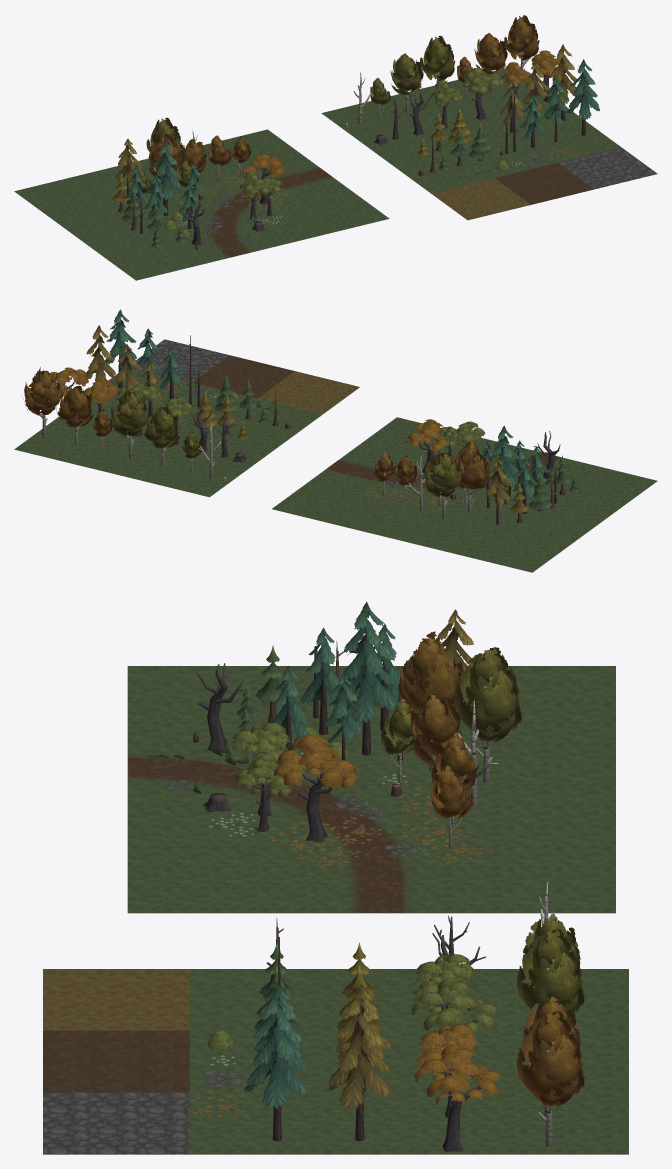
Rendered from cc67e30c_handpainted_tree_pack.glb.
3 views of the same model, one above another, from view 1: azimuth 30°, elevation 25°; view 2: azimuth 150°, elevation 25°; view 3: azimuth 270°, elevation 25° (orthographic). The views are drawn at different scales.
Parts seen in each view (by area): view 1: Plane.028, Plane.024, Plane.029, Plane.026, Plane.025, Plane.027, birch_orange_3, birch_green_3, birch_green_2, pine_3, birch_orange_2, pine_3.001 (+21 smaller); view 2: Plane.028, Plane.024, Plane.026, Plane.025, Plane.027, birch_orange_3, birch_green_3.001, birch_green_3, birch_orange_3.001, birch_green_2, birch_orange_2, Plane.029 (+21 smaller); view 3: Plane.028, Plane.024, Plane.029, Plane.025, Plane.027, Plane.026, birch_orange_3, birch_green_3.001, pine_3, birch_green_3, pine_orange_3, oak_orange_2 (+22 smaller).
Part boxes in pixels (left/top/right/bottom): Plane.028: left=14, top=129, right=389, bottom=280; Plane.024: left=321, top=68, right=620, bottom=193; Plane.029: left=209, top=167, right=332, bottom=257; Plane.026: left=431, top=178, right=530, bottom=220; Plane.025: left=495, top=162, right=593, bottom=204; Plane.027: left=558, top=147, right=657, bottom=189; birch_orange_3: left=504, top=15, right=539, bottom=84; birch_green_3: left=420, top=35, right=455, bottom=104; birch_green_2: left=390, top=53, right=423, bottom=112; pine_3: left=566, top=59, right=599, bottom=135; birch_orange_2: left=474, top=33, right=507, bottom=92; pine_3.001: left=150, top=139, right=182, bottom=215; Plane.028: left=272, top=417, right=657, bottom=572; Plane.024: left=14, top=368, right=322, bottom=497; Plane.026: left=258, top=371, right=359, bottom=414; Plane.025: left=192, top=355, right=294, bottom=398; Plane.027: left=131, top=339, right=229, bottom=382; birch_orange_3: left=21, top=367, right=62, bottom=437; birch_green_3.001: left=421, top=448, right=462, bottom=519; birch_green_3: left=108, top=388, right=148, bottom=458; birch_orange_3.001: left=452, top=441, right=492, bottom=512; birch_green_2: left=141, top=407, right=179, bottom=466; birch_orange_2: left=55, top=385, right=93, bottom=444; Plane.029: left=326, top=452, right=561, bottom=487; Plane.028: left=127, top=666, right=615, bottom=913; Plane.024: left=189, top=969, right=628, bottom=1154; Plane.029: left=128, top=755, right=409, bottom=912; Plane.025: left=43, top=1030, right=189, bottom=1092; Plane.027: left=43, top=1092, right=189, bottom=1154; Plane.026: left=43, top=969, right=189, bottom=1030; birch_orange_3: left=516, top=1011, right=585, bottom=1146; birch_green_3.001: left=454, top=647, right=522, bottom=782; pine_3: left=244, top=987, right=308, bottom=1141; birch_green_3: left=516, top=929, right=585, bottom=1014; pine_orange_3: left=327, top=988, right=391, bottom=1141; oak_orange_2: left=414, top=1044, right=503, bottom=1152.
Bounding box in the file's own units: 74.85 × 10.74 × 36.89.
11 materials, 11 textured.
